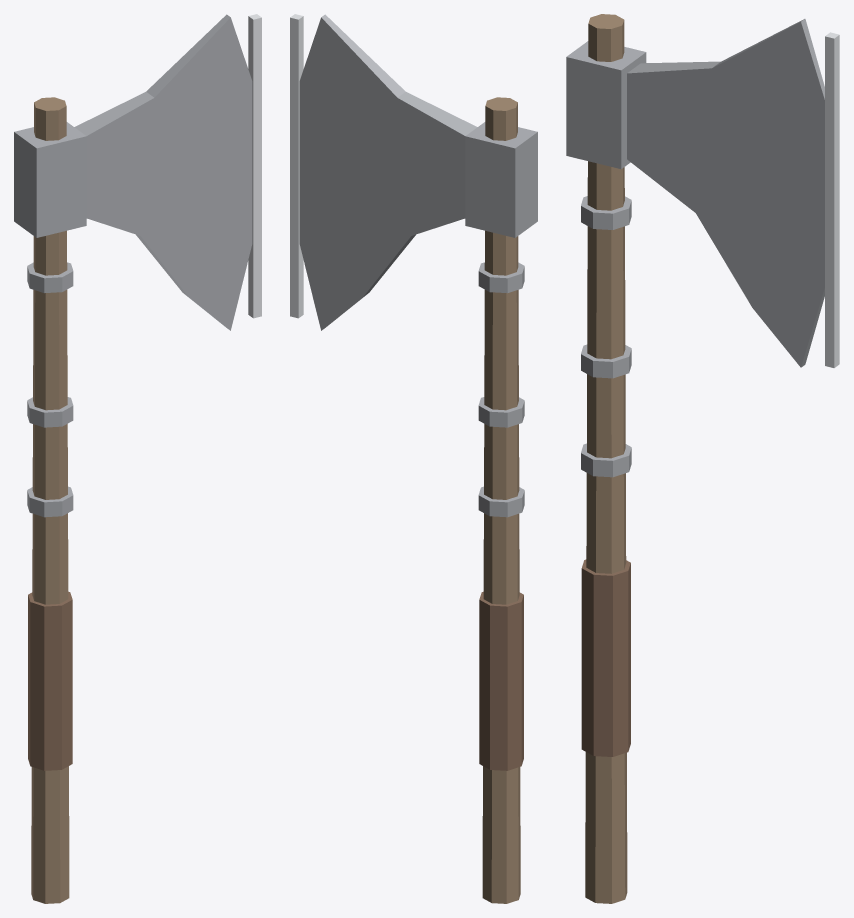
File: Axe_Dane.gltf
The picture shows the model from 3 angles, left to right: view 1: azimuth 30°, elevation 25°; view 2: azimuth 150°, elevation 25°; view 3: azimuth 330°, elevation 25°; orthographic projection. The views are drawn at different scales.
Parts seen in each view (by area): view 1: Axe_Dane; view 2: Axe_Dane; view 3: Axe_Dane.
Boxes of the visible parts, bbox=[...] form: Axe_Dane: bbox=[14, 14, 261, 903]; Axe_Dane: bbox=[290, 14, 537, 903]; Axe_Dane: bbox=[566, 14, 839, 903].
Bounding box in the file's own units: 0.328 × 1.12 × 0.058.
